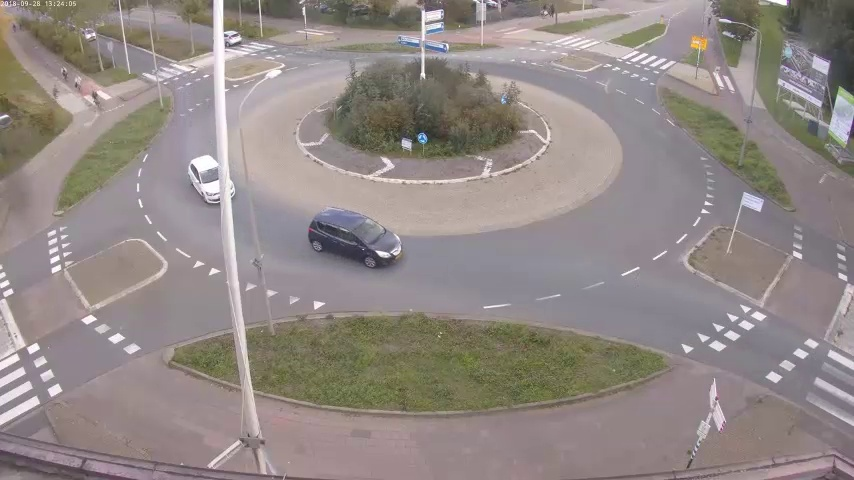car: (313, 210, 407, 264), (185, 154, 231, 205), (214, 27, 245, 49), (79, 27, 100, 41)
